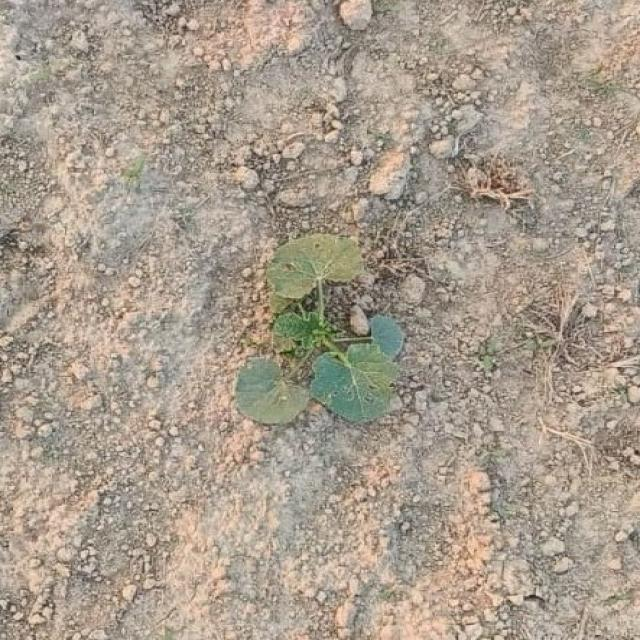plant: (236, 235, 404, 424)
